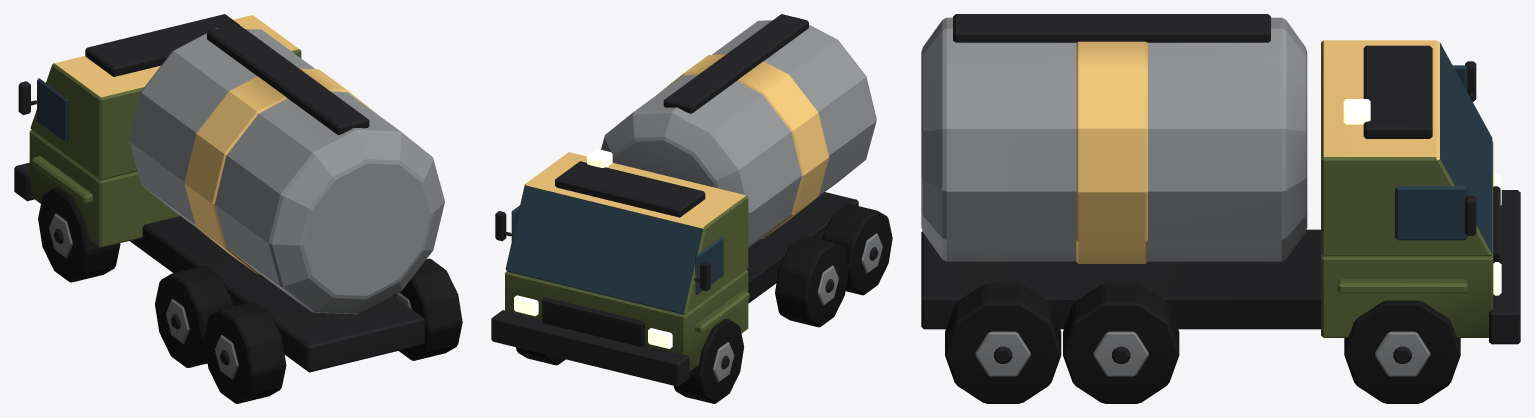
File: tanker_truck.glb
3 views of the same model, side by side, from view 1: azimuth 30°, elevation 25°; view 2: azimuth 150°, elevation 25°; view 3: azimuth 270°, elevation 25° (orthographic). The views are drawn at different scales.
Visible parts, largest first — view 1: tanker_truck; view 2: tanker_truck; view 3: tanker_truck.
Part boxes in pixels (x1=…): tanker_truck: x1=14, y1=14, x2=462, y2=403; tanker_truck: x1=491, y1=14, x2=892, y2=403; tanker_truck: x1=921, y1=14, x2=1520, y2=403.
Size of the model in its own units: 0.73 by 0.7786 by 1.32.
